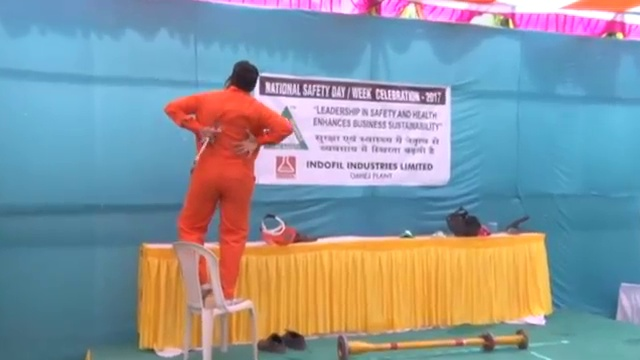helmet_off: (227, 58, 262, 99)
person: (161, 57, 295, 308)
